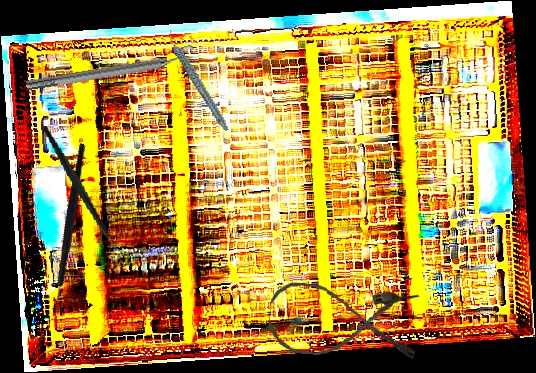Cannula: (266, 280, 420, 364)
Chopper: (2, 142, 143, 318), (41, 115, 127, 263)
Fixation Ring: (23, 43, 198, 99)
Handpiece: (167, 22, 230, 139)
